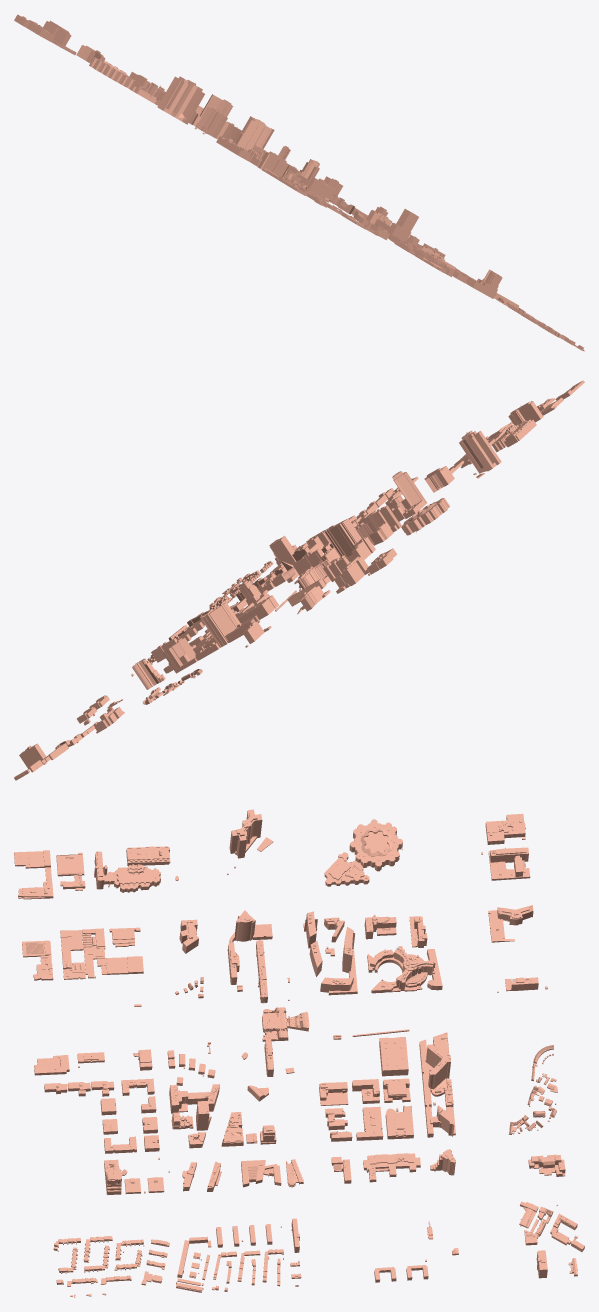
3 renders of one model, top to bottom at view 1: azimuth 30°, elevation 25°; view 2: azimuth 150°, elevation 25°; view 3: azimuth 270°, elevation 25°, orthographic. The views are drawn at different scales.
Bounding box in the file's own units: 3.41e+07 × 2.62e+07 × 4.29e+07.
